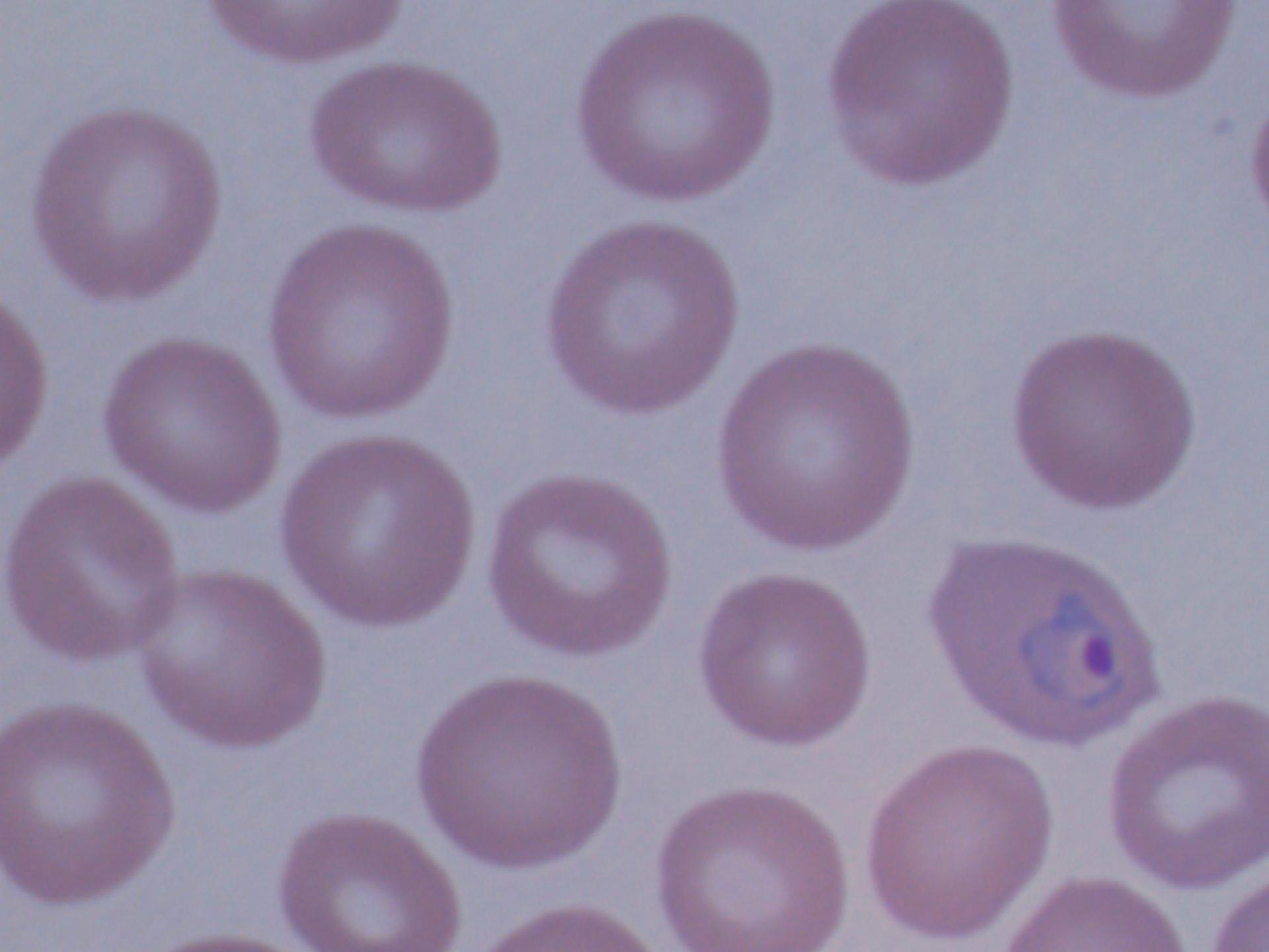Infected: (925, 547, 1161, 743)
Uninfected: (724, 344, 907, 552), (421, 679, 621, 865), (35, 111, 220, 298), (552, 222, 733, 413), (288, 436, 469, 626), (869, 749, 1050, 938), (831, 0, 1011, 186), (0, 709, 173, 902), (585, 17, 769, 197), (274, 228, 450, 415), (486, 481, 670, 652), (145, 577, 325, 746), (107, 341, 281, 514), (661, 790, 843, 952), (1021, 336, 1192, 508), (1115, 699, 1269, 887), (10, 486, 173, 656), (314, 69, 506, 210), (704, 580, 868, 745), (284, 816, 461, 952)
